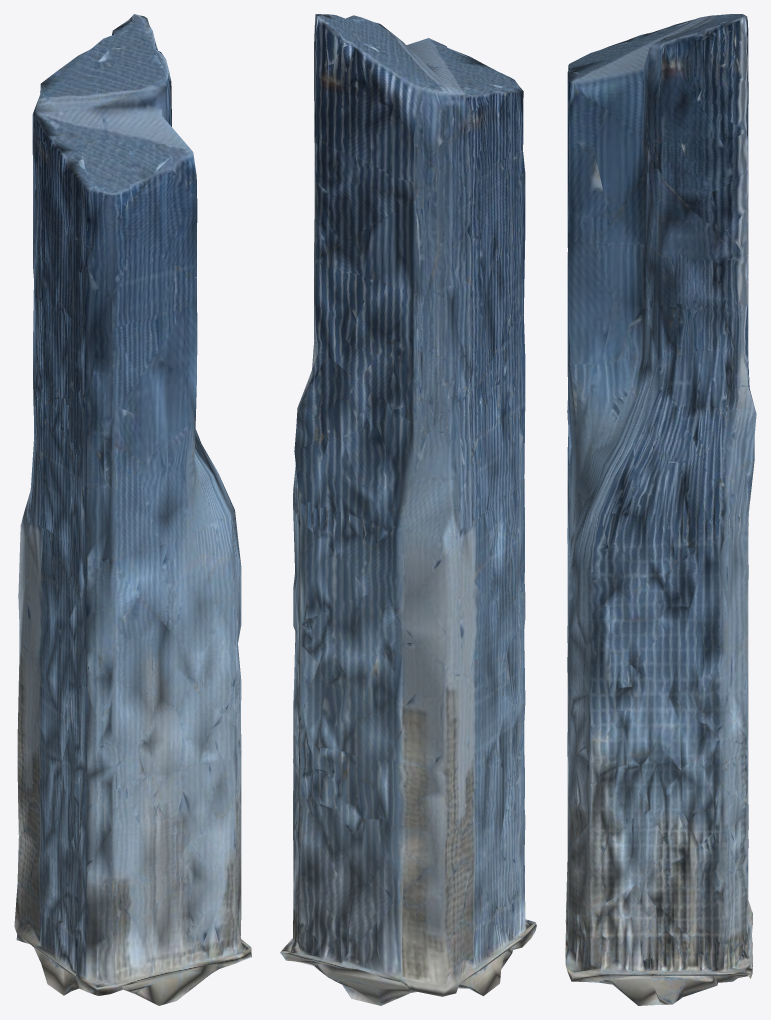
Rendered from bld_glass.glb.
3 views of the same model, side by side, from view 1: azimuth 30°, elevation 25°; view 2: azimuth 150°, elevation 25°; view 3: azimuth 270°, elevation 25° (orthographic). The views are drawn at different scales.
Parts seen in each view (by area): view 1: bld_glass; view 2: bld_glass; view 3: bld_glass.
Boxes of the visible parts, x1,y1,x2,y2 form: bld_glass: [14, 14, 251, 1005]; bld_glass: [280, 14, 536, 1005]; bld_glass: [565, 14, 756, 1005].
Size of the model in its own units: 0.3523 by 1.9 by 0.3379.
1 material, 1 textured.
